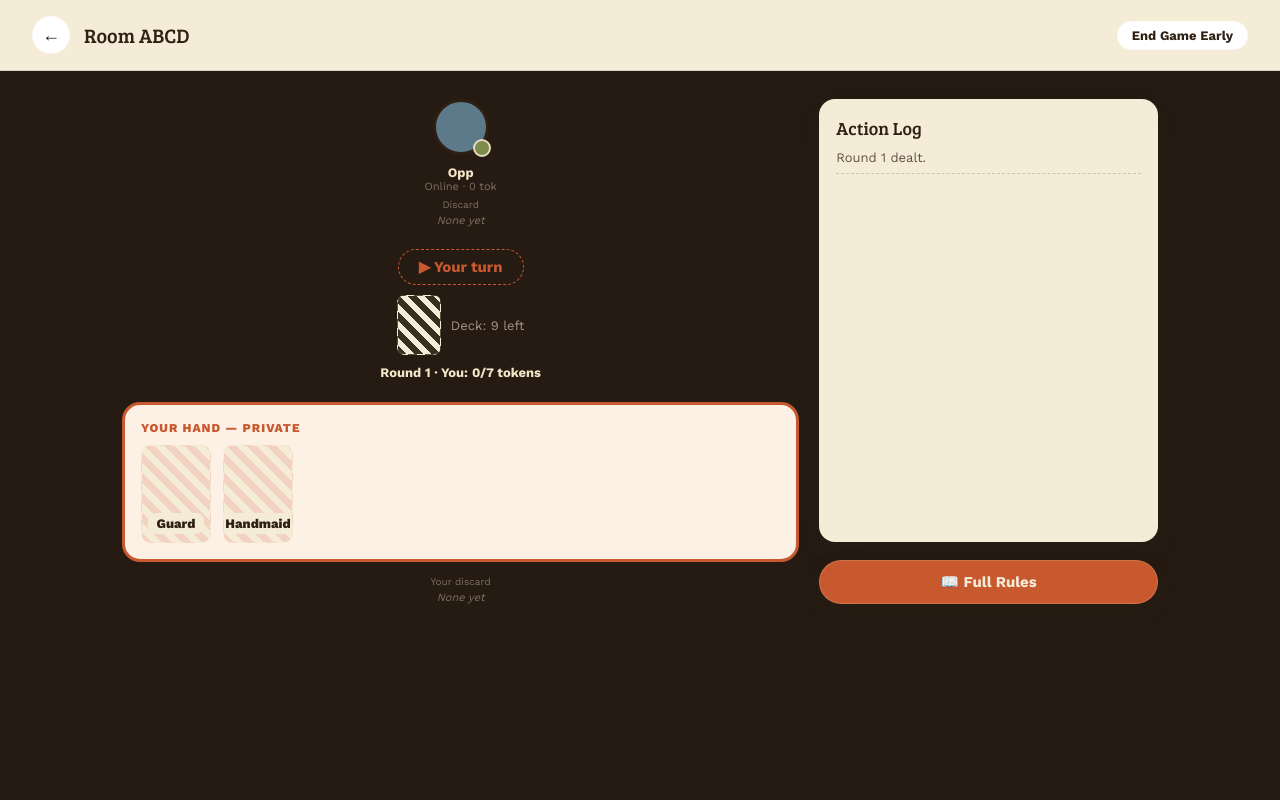
Test case: ActiveTableContainer › Cancel in the preview modal closes it without playing
Click the text "Handmaid": {"x": 258, "y": 524} left=216, top=513, right=300, bottom=534
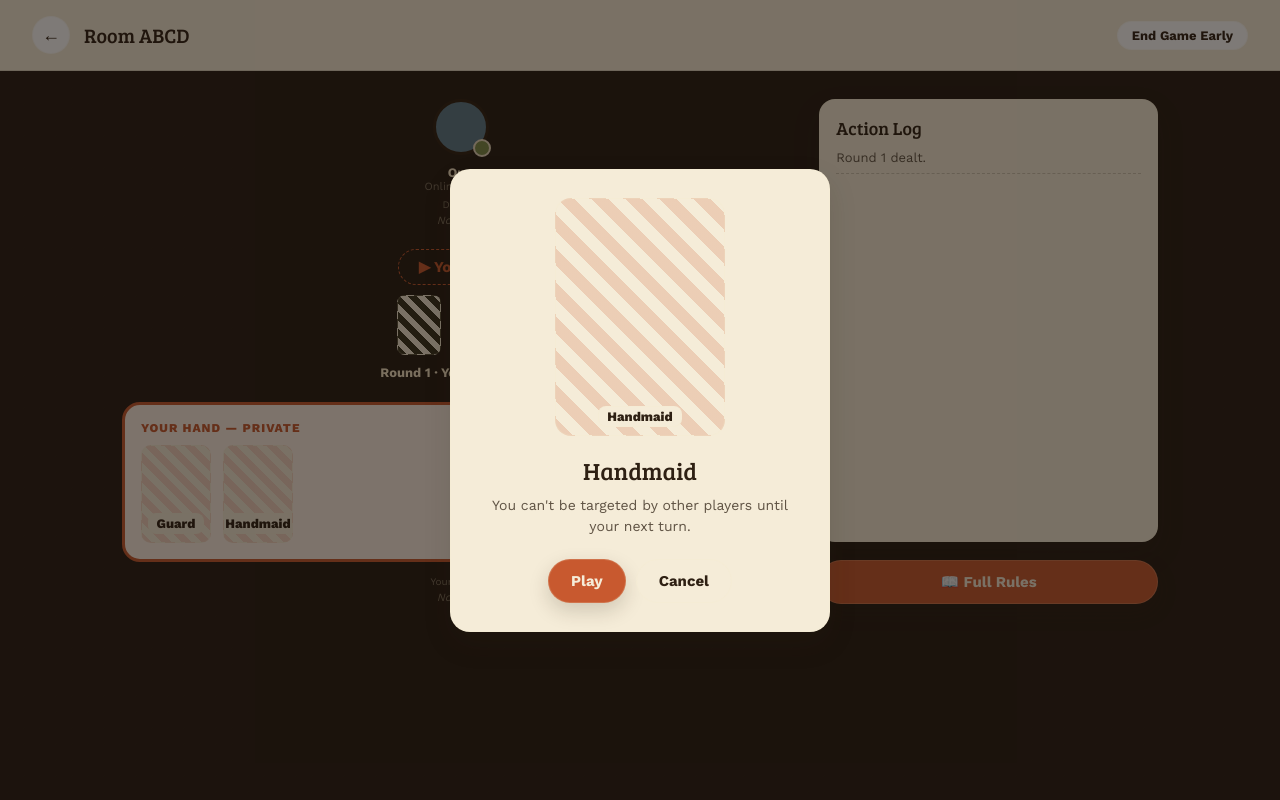
Click the button "Cancel": {"x": 684, "y": 580} left=636, top=558, right=732, bottom=602
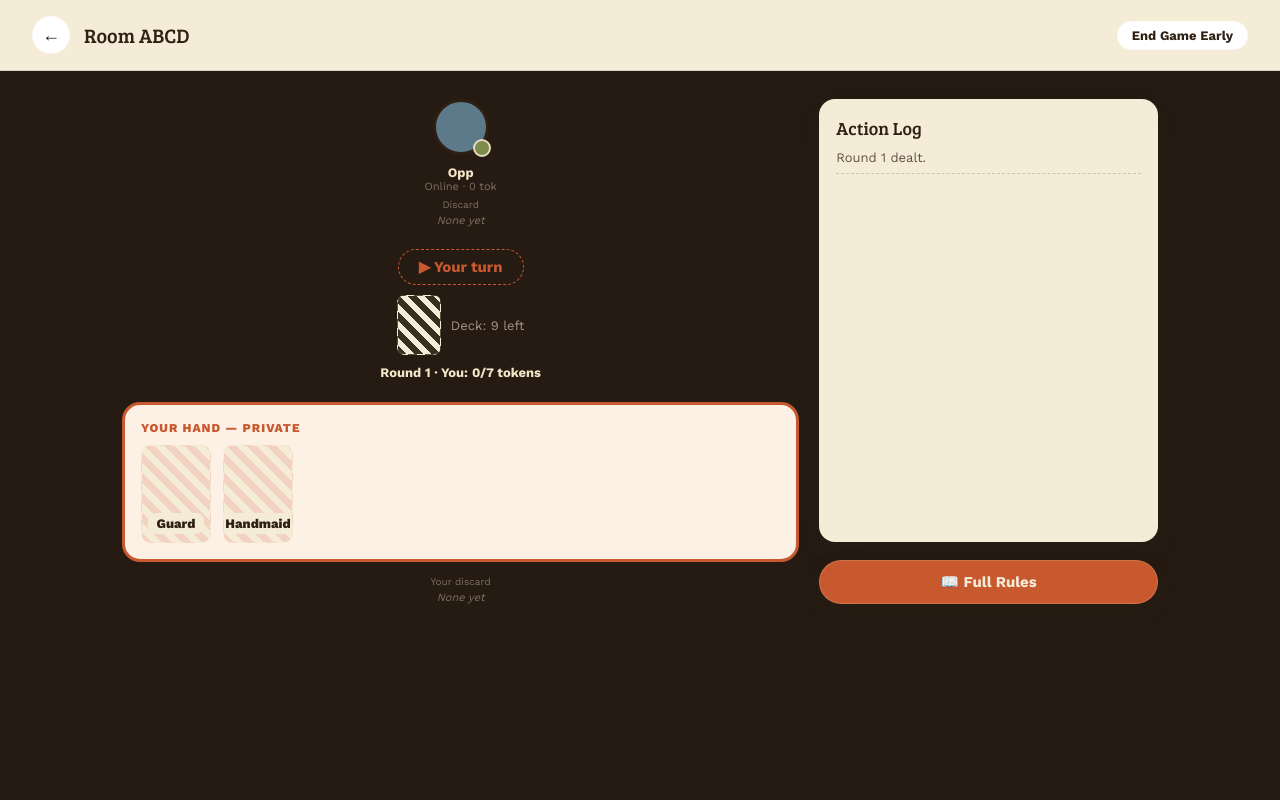
expect the text "play" is gone: met
